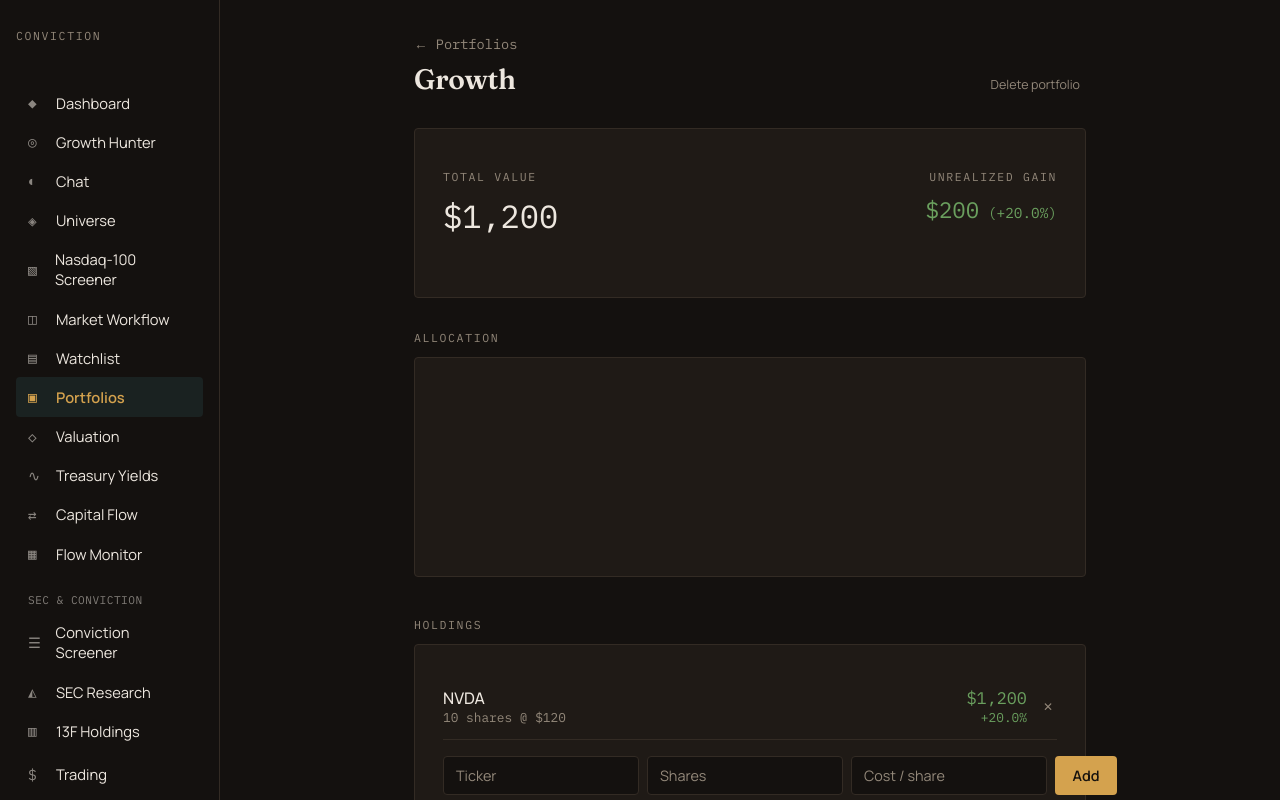
Test: Portfolio detail page › does not delete on a single click — requires explicit confirmation
Click the button "Delete portfolio".
click(1035, 84)  # box x1=985 y1=75 x2=1086 y2=94
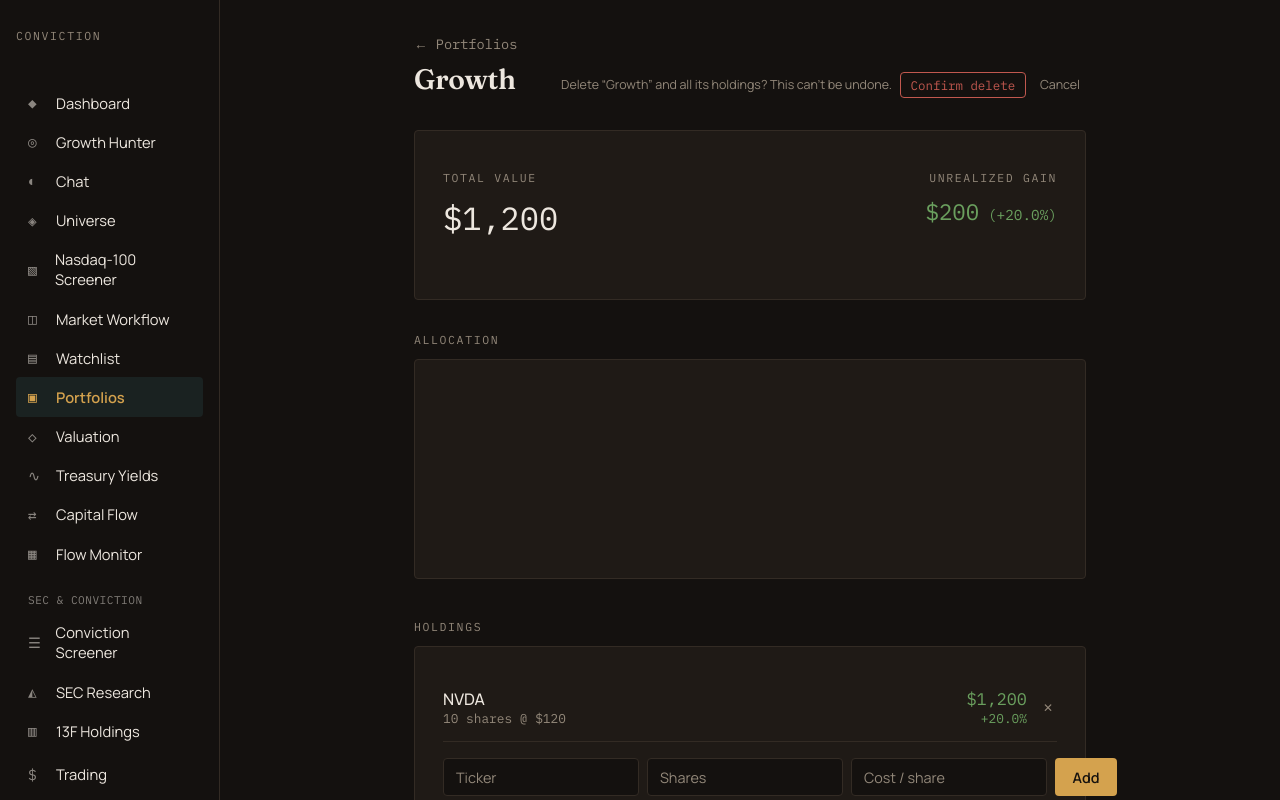
Check: the button "Confirm delete" is shown, box x1=900 y1=72 x2=1026 y2=98
